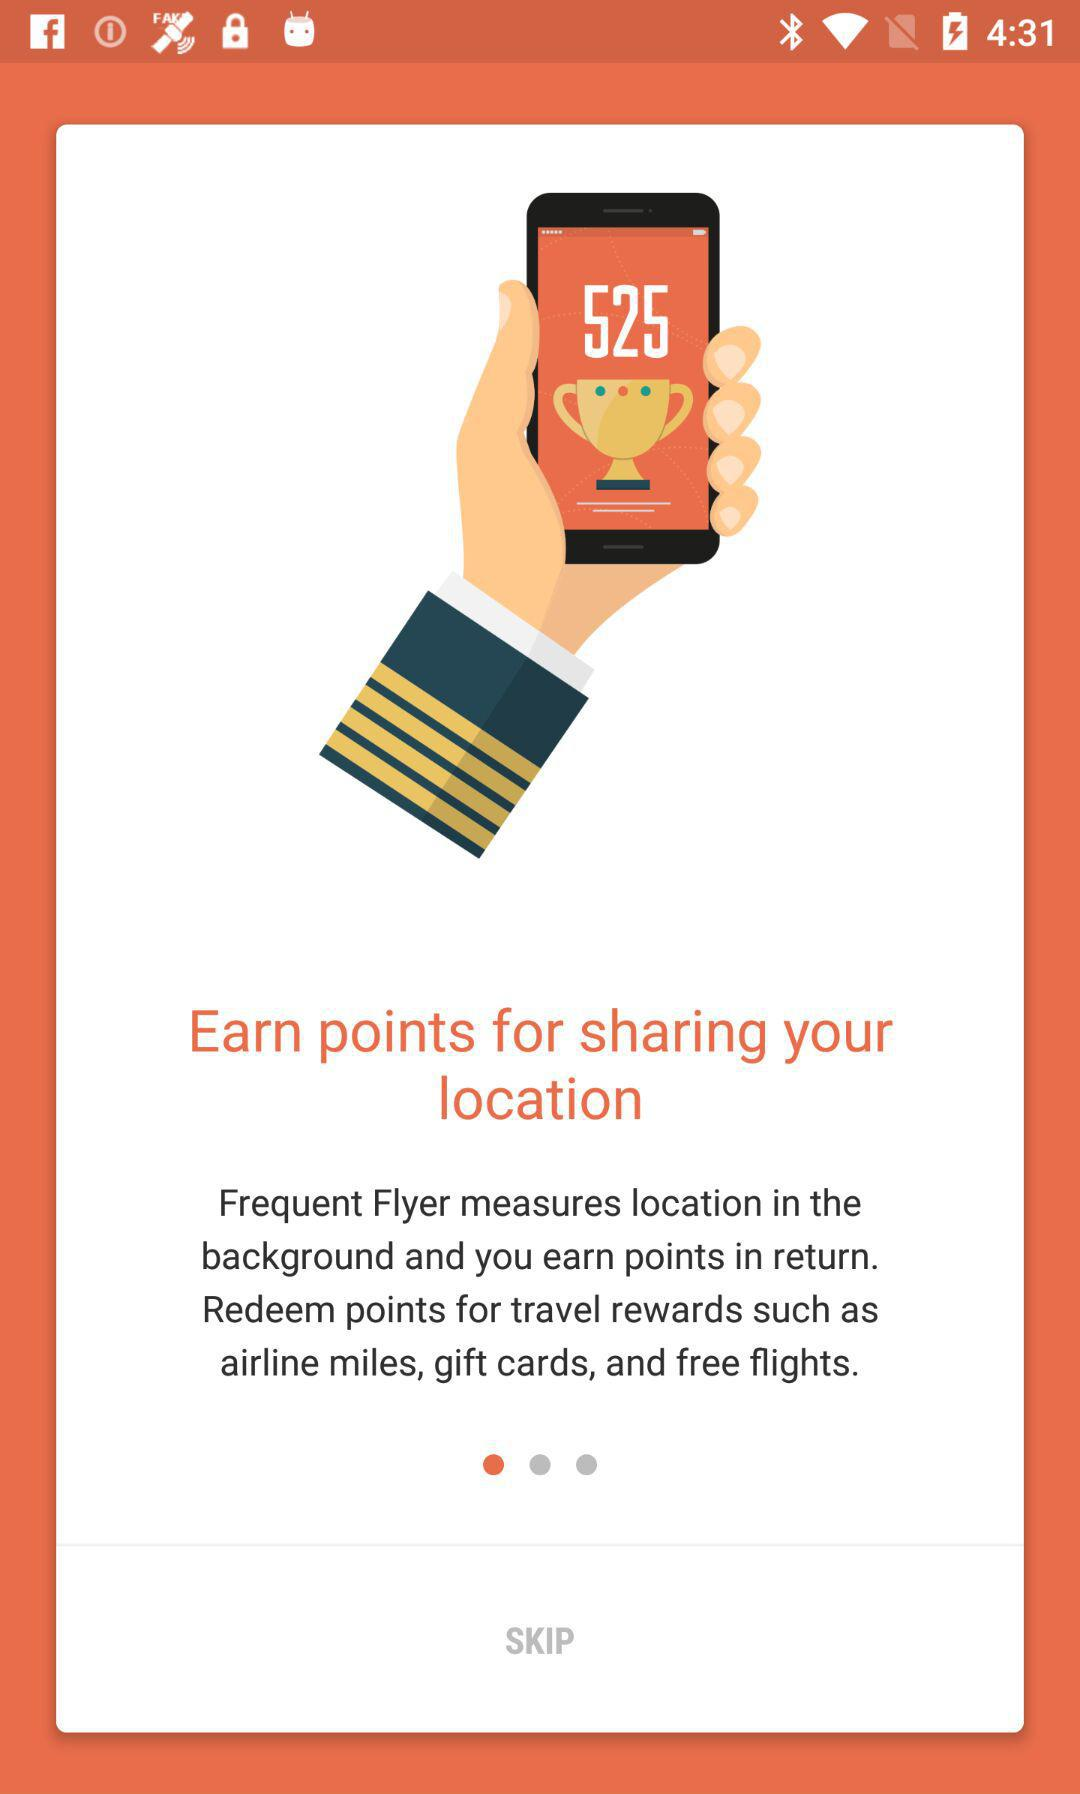Card: (56, 123, 1024, 1732)
Image: (318, 192, 764, 860)
PageIndicator: (483, 1452, 600, 1476)
Text: (202, 1187, 879, 1385), (191, 1006, 894, 1121)
TextButton: (56, 1544, 1024, 1732)
UpperTaskBar: (1, 1, 1080, 63)
